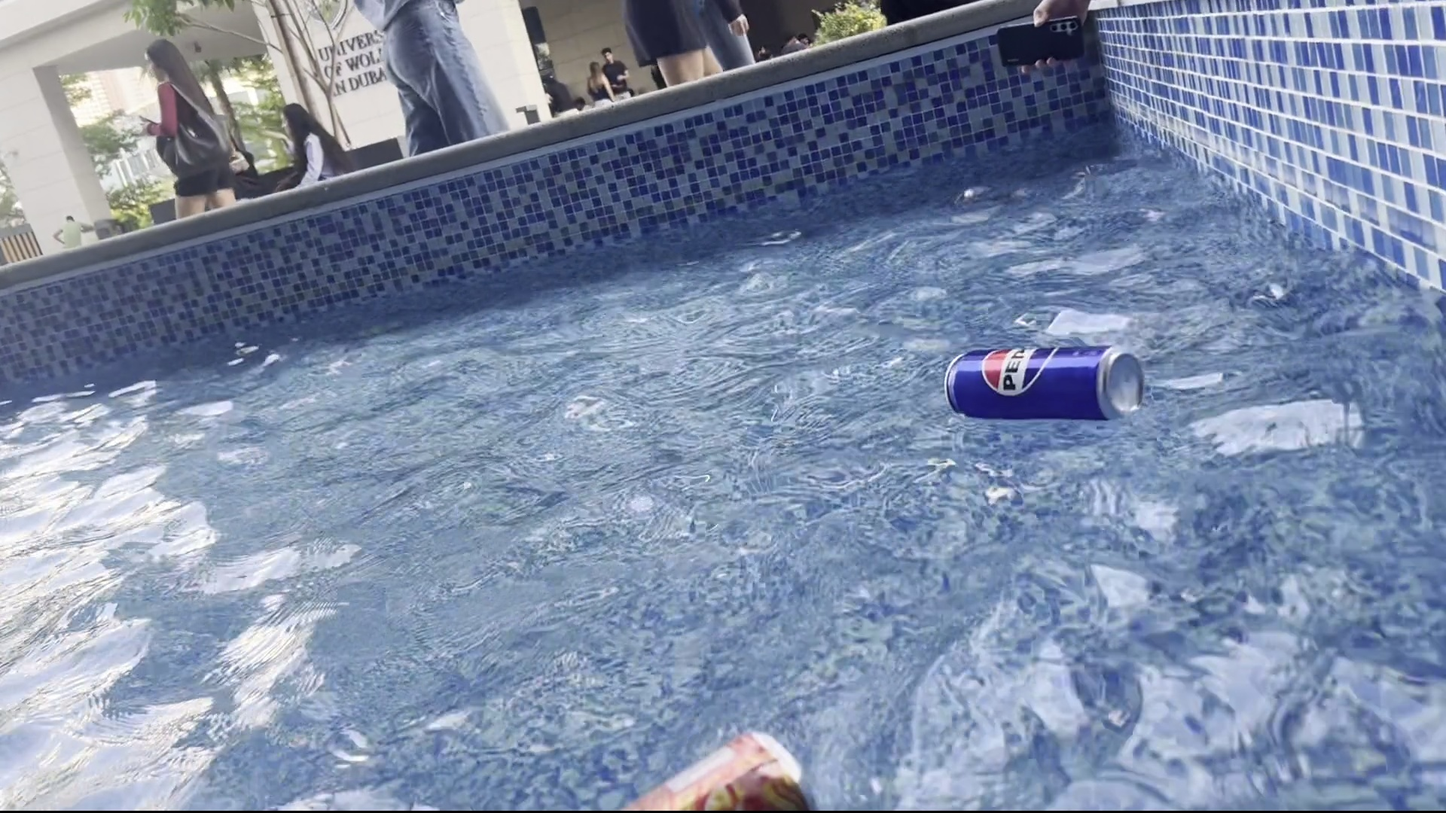debris: (615, 711, 816, 813), (929, 335, 1150, 427)
